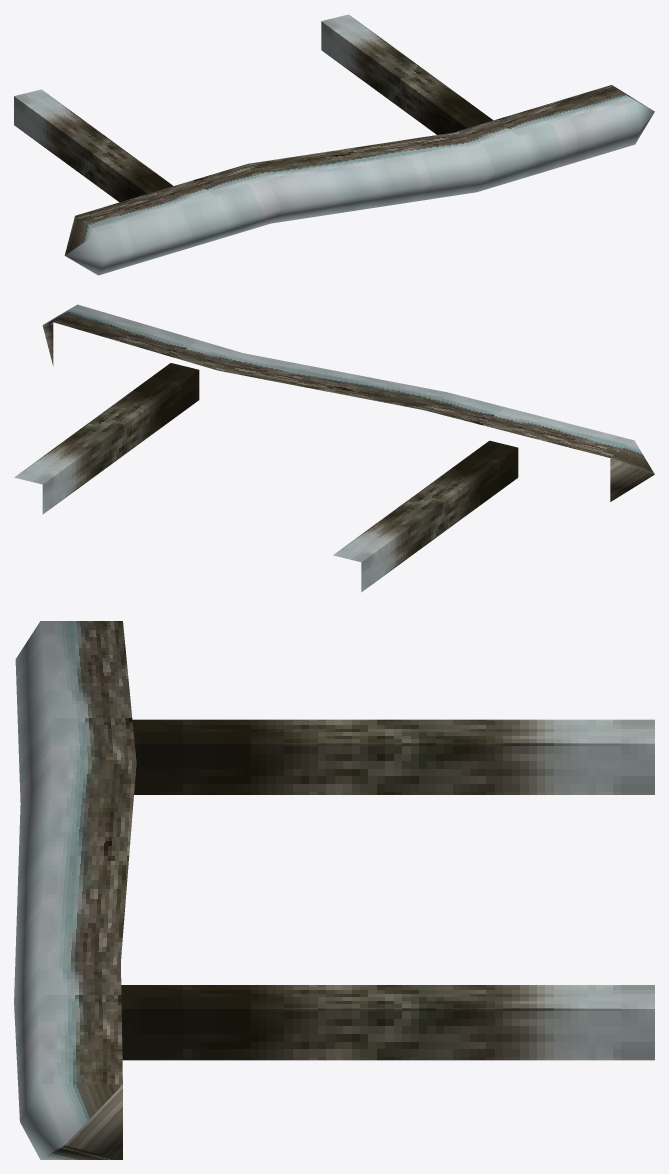
3 renders of one model, top to bottom at view 1: azimuth 30°, elevation 25°; view 2: azimuth 150°, elevation 25°; view 3: azimuth 270°, elevation 25°, orthographic. The views are drawn at different scales.
Parts seen in each view (by area): view 1: model_Object15; view 2: model_Object15; view 3: model_Object15.
Boxes of the visible parts, left/top/right/bottom form: model_Object15: left=14, top=14, right=654, bottom=275; model_Object15: left=14, top=304, right=654, bottom=592; model_Object15: left=14, top=621, right=654, bottom=1159.
Size of the model in its own units: 2.22 by 0.2056 by 1.18.
1 material, 1 textured.
